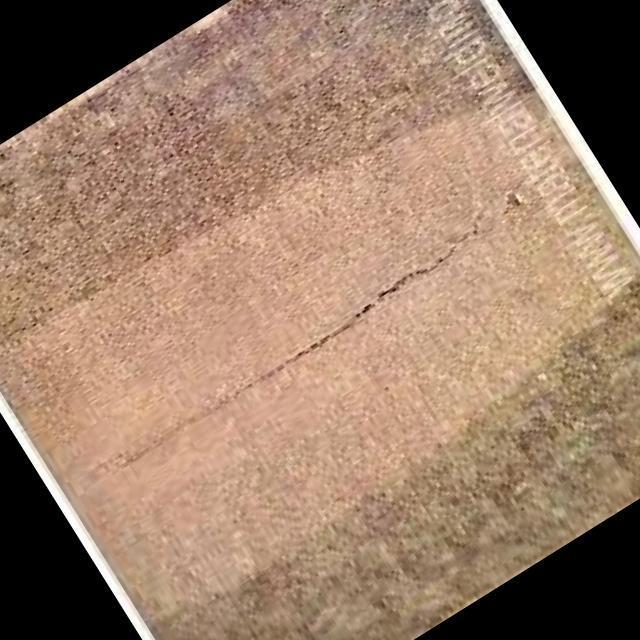defect: (107, 197, 491, 470)
